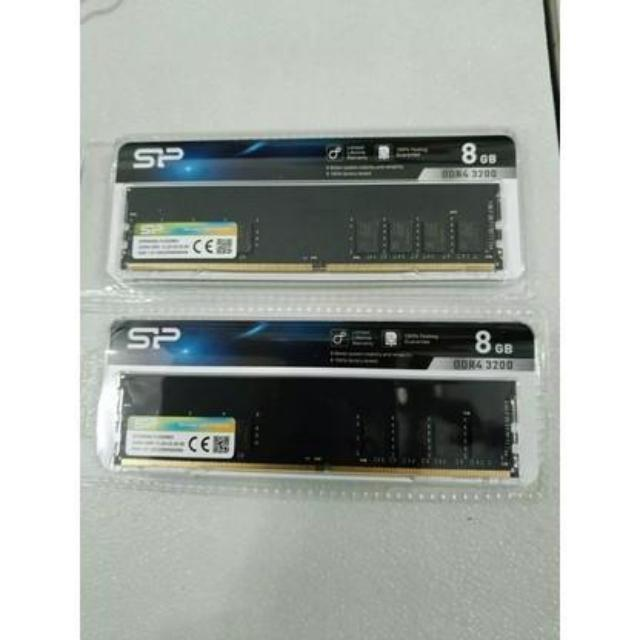RAM: (109, 364, 528, 488), (107, 176, 513, 284)
